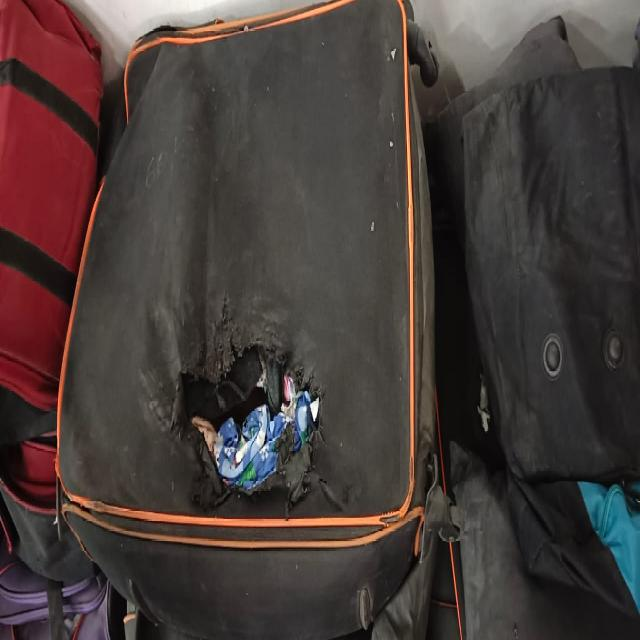Damage-bag: (142, 267, 350, 521)
